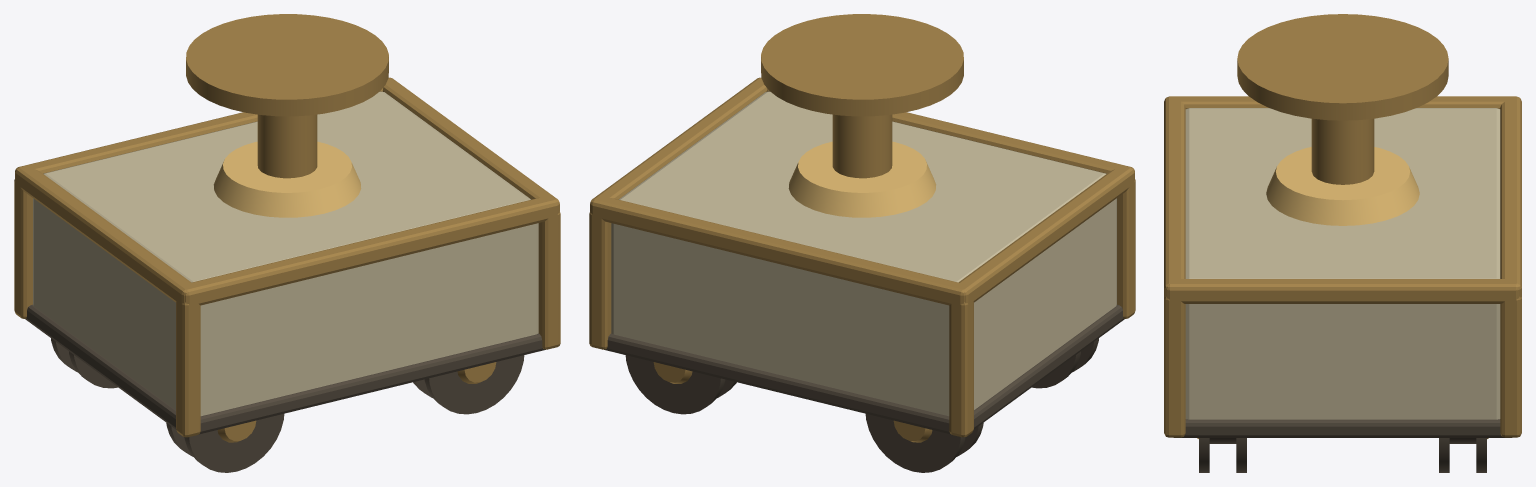
File: mirror-cart-v01.glb
3 renders of one model, left to right at view 1: azimuth 30°, elevation 25°; view 2: azimuth 150°, elevation 25°; view 3: azimuth 270°, elevation 25°, orthographic. The views are drawn at different scales.
Visible parts, largest first — view 1: Shadow sandstone 0, Shadow brass 1, Shadow bronze dark 2, Shadow brass light 3; view 2: Shadow sandstone 0, Shadow brass 1, Shadow bronze dark 2, Shadow brass light 3; view 3: Shadow sandstone 0, Shadow brass 1, Shadow bronze dark 2, Shadow brass light 3.
Boxes of the visible parts, x1,y1,x2,y2 form: Shadow sandstone 0: (33, 91, 538, 416); Shadow brass 1: (14, 14, 560, 442); Shadow bronze dark 2: (25, 304, 545, 472); Shadow brass light 3: (213, 141, 361, 217); Shadow sandstone 0: (611, 91, 1116, 416); Shadow brass 1: (589, 14, 1135, 442); Shadow bronze dark 2: (604, 304, 1124, 472); Shadow brass light 3: (788, 141, 936, 217); Shadow sandstone 0: (1185, 108, 1500, 419); Shadow brass 1: (1164, 14, 1521, 438); Shadow bronze dark 2: (1174, 419, 1511, 472); Shadow brass light 3: (1266, 147, 1419, 225).
Size of the model in its own units: 0.945 by 0.8 by 0.745.
